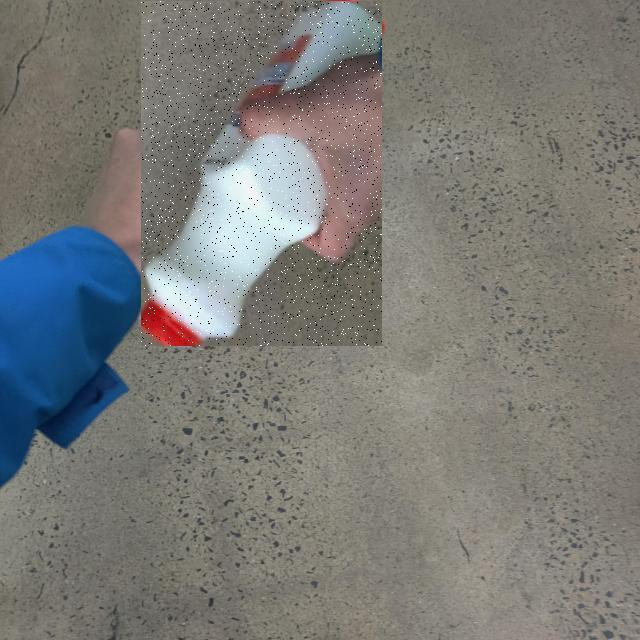Milk: (141, 1, 382, 346)
